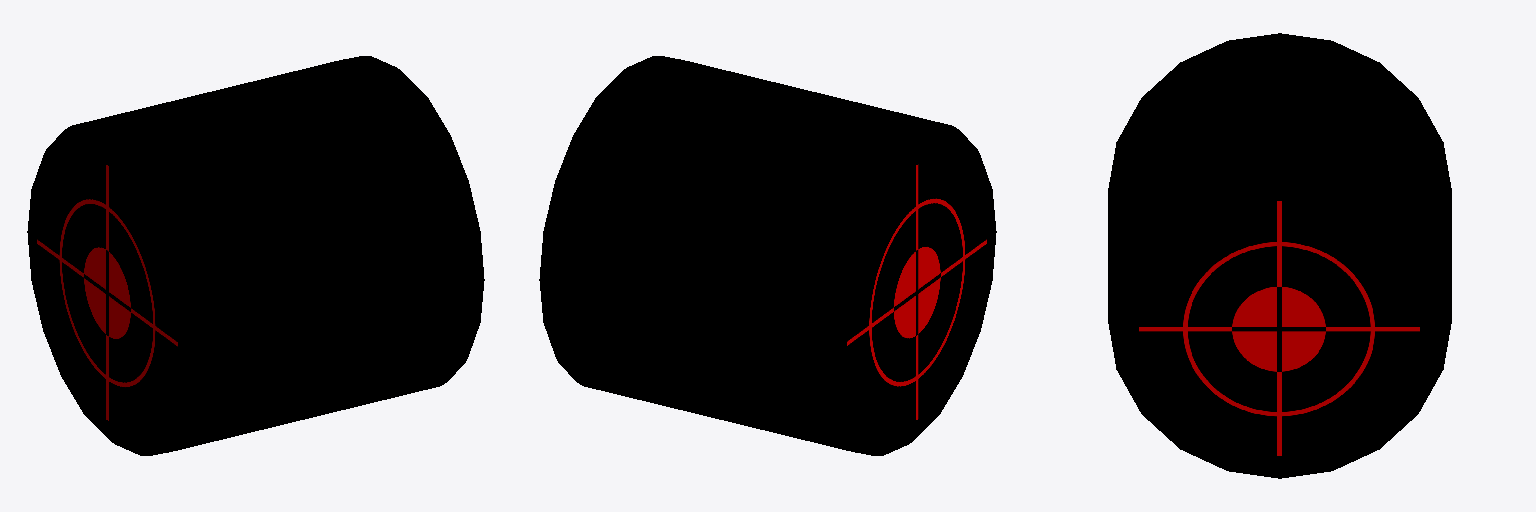
3 views of the same model, side by side, from view 1: azimuth 30°, elevation 25°; view 2: azimuth 150°, elevation 25°; view 3: azimuth 270°, elevation 25° (orthographic).
Visible parts, largest first — view 1: default; view 2: default; view 3: default.
Part boxes in pixels (x1,y1,x2,y2): default: (27, 56, 484, 455); default: (539, 56, 996, 455); default: (1108, 33, 1451, 478).
Size of the model in its own units: 1 by 1 by 1.
1 materials, 1 textured.